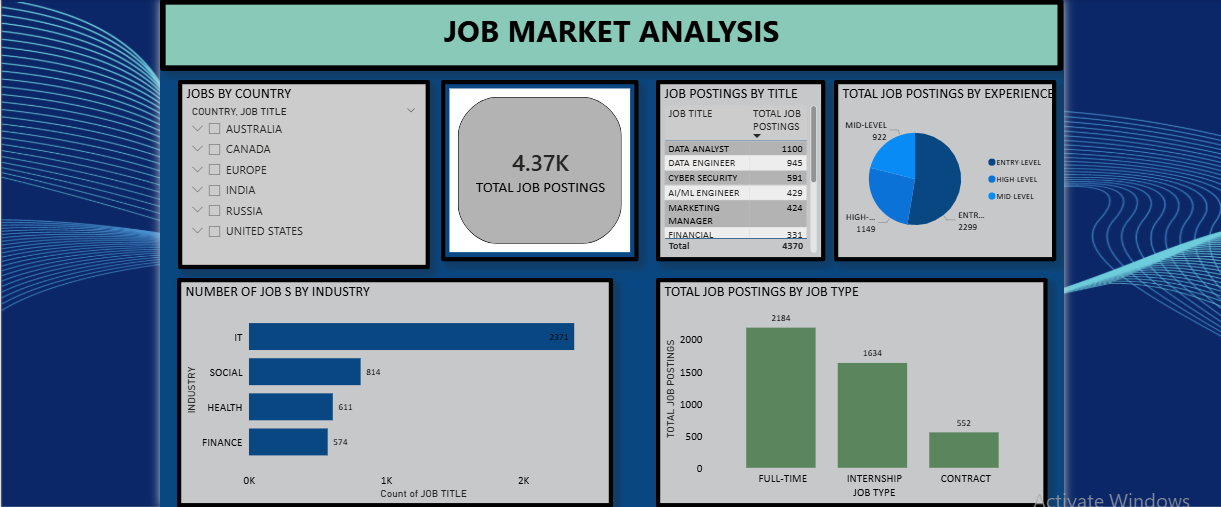

The dashboard page shown, as its layout file describes it:
{"tool":"powerbi","page":{"name":"JOB POSTINGS","canvas":[1280,720],"ordinal":0},"visuals":[{"type":"cardVisual","fields":{"Data":["Sheet1.TOTAL JOB POSTINGS"]},"box":[397.7,115,280,256.7],"z":0},{"type":"textbox","box":[0,0,1280,101.7],"z":1000},{"type":"slicer","title":"JOBS BY COUNTRY","fields":{"Values":["Sheet1.COUNTRY","Sheet1.JOB TITLE"]},"box":[25,115,356.7,268.3],"z":2000},{"type":"barChart","title":"NUMBER OF JOB S BY INDUSTRY ","fields":{"Category":["Sheet1.INDUSTRY "],"Y":["CountNonNull(Sheet1.JOB TITLE)"]},"box":[24.3,395,618.3,325],"z":3000},{"type":"pieChart","title":"TOTAL JOB POSTINGS BY EXPERIENCE","fields":{"Category":["Sheet1.EXPERIENCE LEVEL"],"Y":["Sheet1.TOTAL JOB POSTINGS"]},"box":[955.3,114.8,314.6,256.5],"z":4000},{"type":"columnChart","title":"TOTAL JOB POSTINGS BY JOB TYPE","fields":{"Category":["Sheet1.JOB TYPE"],"Y":["Sheet1.TOTAL JOB POSTINGS"]},"box":[703,395,555,325],"z":5000},{"type":"tableEx","title":"JOB POSTINGS BY TITLE","fields":{"Values":["Sheet1.JOB TITLE","Sheet1.TOTAL JOB POSTINGS"]},"box":[703,114.8,239.5,256.5],"z":6000}]}

Visuals, with their boxes in screenshot pixels (x1, y1, x2, y2):
cardVisual - Sheet1.TOTAL JOB POSTINGS: 441:80:635:257
textbox: 165:0:1052:70
"JOBS BY COUNTRY" slicer: 183:80:430:265
"NUMBER OF JOB S BY INDUSTRY " barChart: 182:274:610:499
"TOTAL JOB POSTINGS BY EXPERIENCE" pieChart: 827:79:1045:257
"TOTAL JOB POSTINGS BY JOB TYPE" columnChart: 652:274:1036:499
"JOB POSTINGS BY TITLE" tableEx: 652:79:818:257
